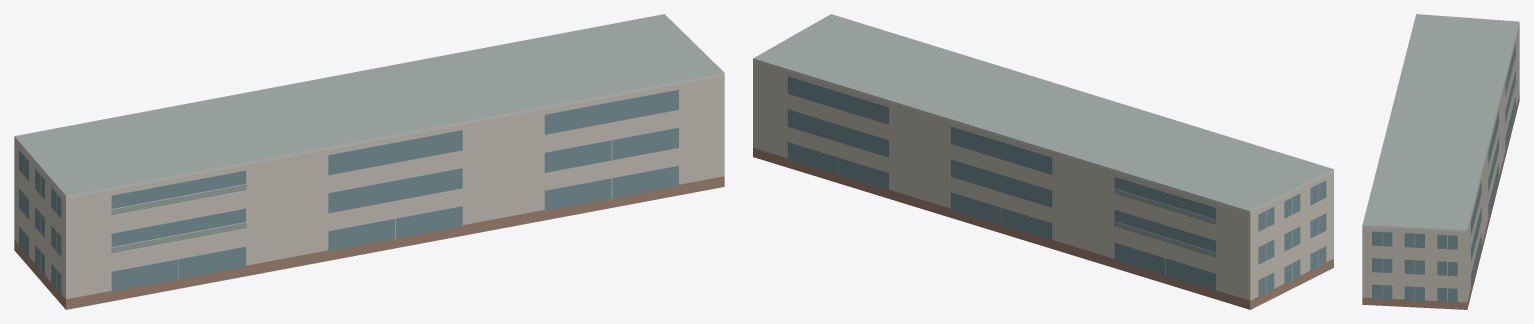
File: survey-upis-32990871.glb
The picture shows the model from 3 angles, left to right: view 1: azimuth 30°, elevation 25°; view 2: azimuth 150°, elevation 25°; view 3: azimuth 270°, elevation 25°; orthographic projection. The views are drawn at different scales.
Parts seen in each view (by area): view 1: survey-upis-32990871.tmp; view 2: survey-upis-32990871.tmp; view 3: survey-upis-32990871.tmp.
Boxes of the visible parts, x1,y1,x2,y2 form: survey-upis-32990871.tmp: (14, 14, 724, 309); survey-upis-32990871.tmp: (753, 14, 1333, 309); survey-upis-32990871.tmp: (1362, 14, 1519, 309).
Bounding box in the file's own units: 53.3 × 9.15 × 16.37.
